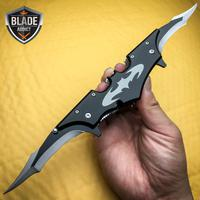knife: (2, 1, 198, 197)
